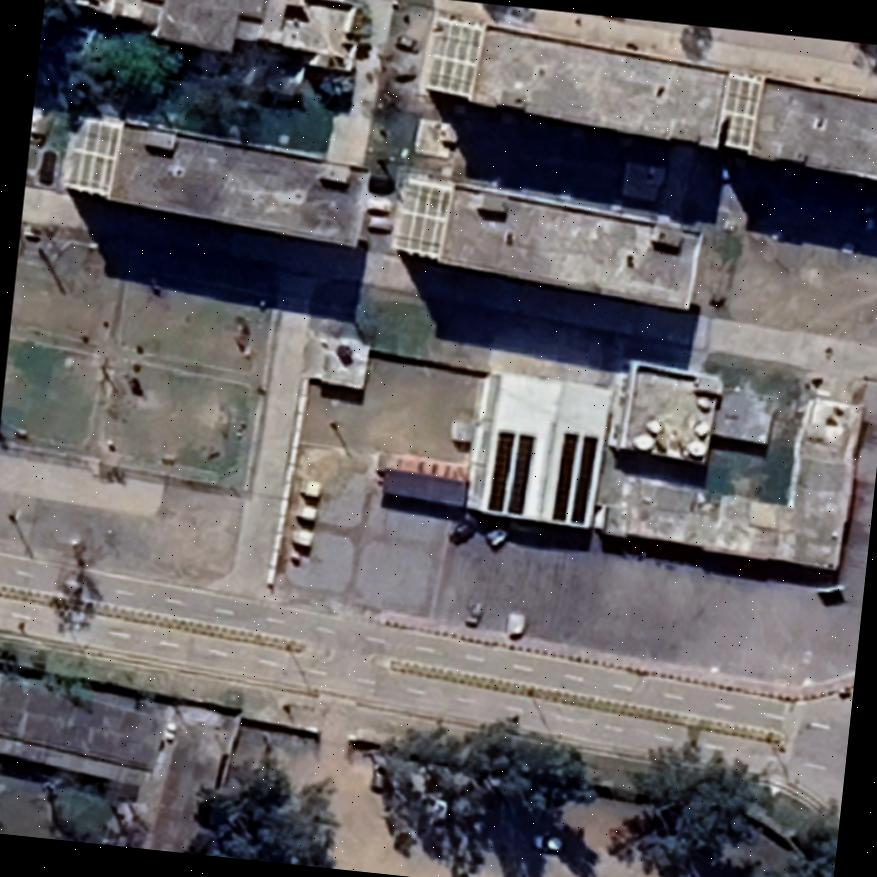Solarpanel: (570, 432, 602, 528), (549, 428, 580, 526), (486, 427, 516, 516), (507, 432, 536, 518)
